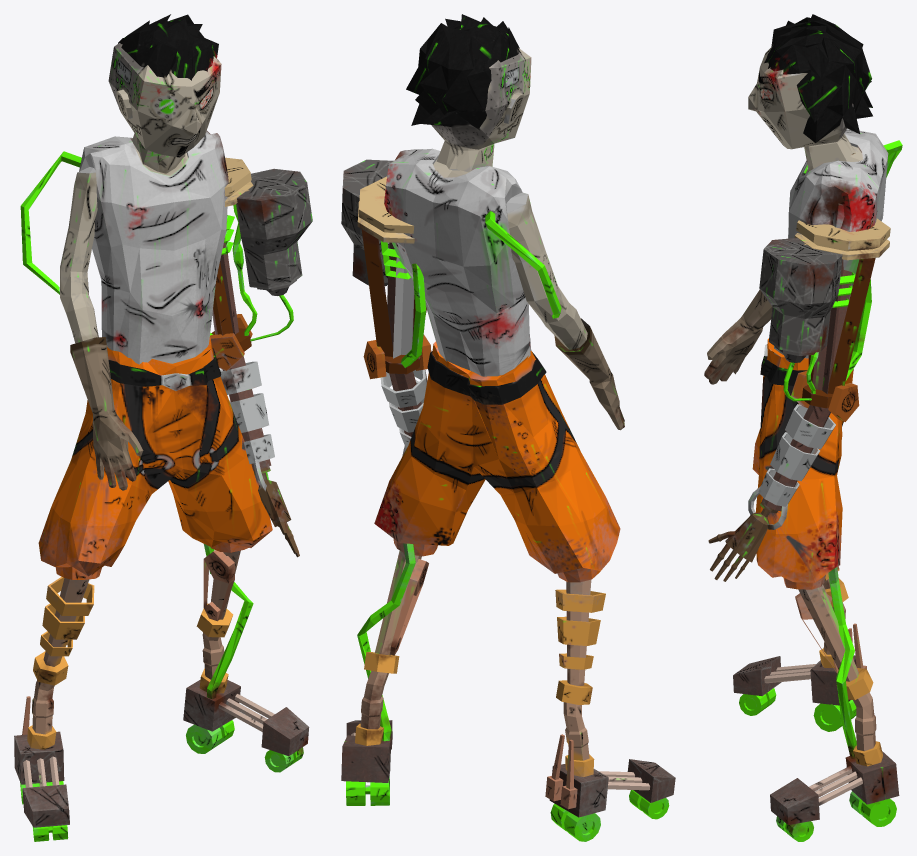
Rendered from CyborgFINALAnimation_000144.obj.
The picture shows the model from 3 angles, left to right: view 1: azimuth 30°, elevation 25°; view 2: azimuth 150°, elevation 25°; view 3: azimuth 270°, elevation 25°; orthographic projection. The views are drawn at different scales.
Visible parts, largest first — view 1: CyborgMesh_Cube.002; view 2: CyborgMesh_Cube.002; view 3: CyborgMesh_Cube.002.
Boxes of the visible parts, x1,y1,x2,y2 form: CyborgMesh_Cube.002: (14, 14, 312, 841); CyborgMesh_Cube.002: (341, 14, 675, 841); CyborgMesh_Cube.002: (704, 14, 902, 841).
Bounding box in the file's own units: 3.94 × 9.62 × 2.27.
